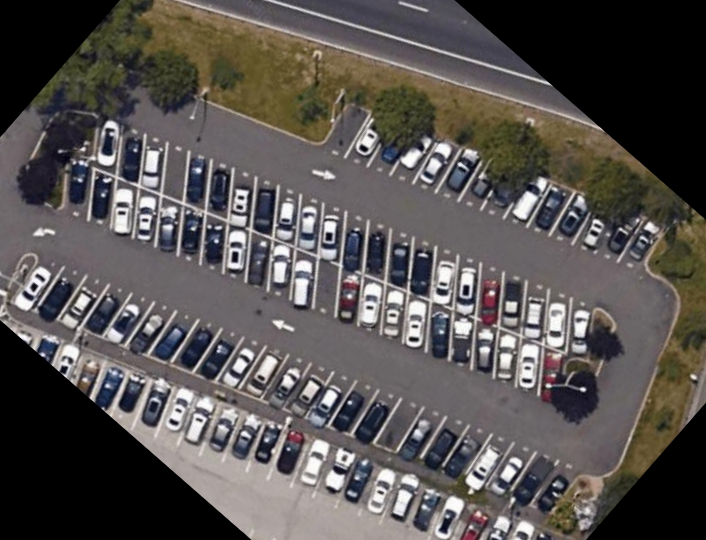parkingspot: (61, 109, 598, 418), (8, 254, 590, 520), (13, 321, 576, 540), (315, 100, 672, 274)
